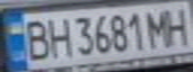1: (124, 8, 148, 51)
3: (72, 12, 93, 56)
6: (90, 11, 115, 55)
8: (109, 11, 130, 53)
B: (18, 16, 54, 62)
H: (160, 3, 193, 47), (42, 15, 72, 60)
M: (145, 7, 172, 48)
